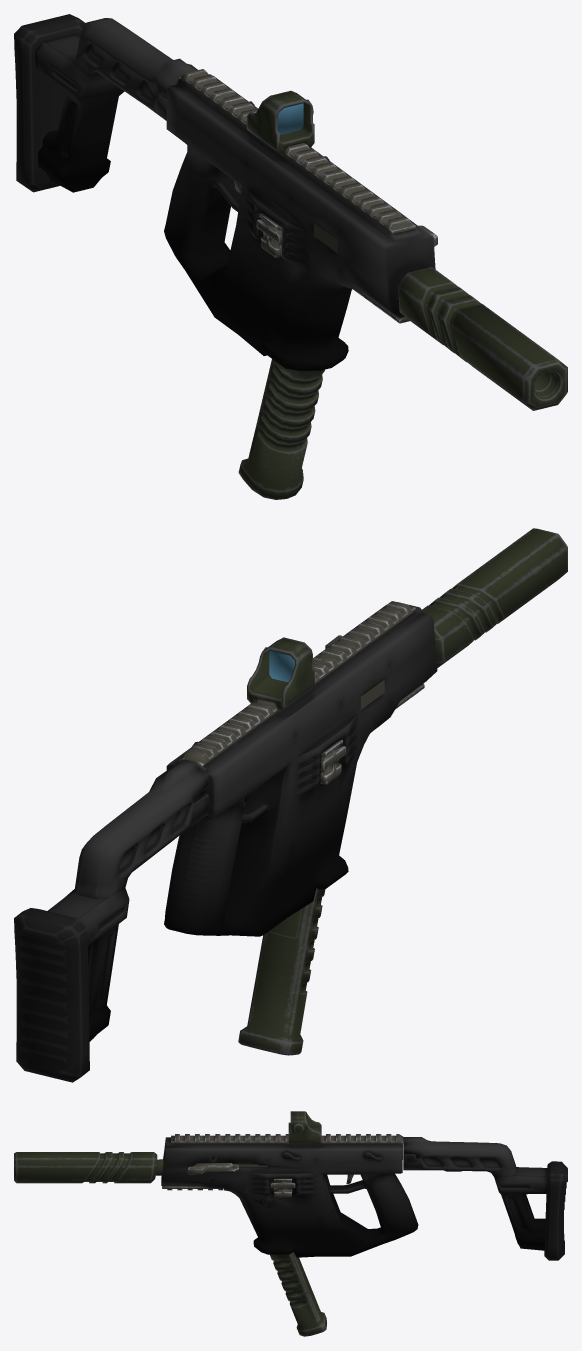
The picture shows the model from 3 angles, top to bottom: view 1: azimuth 30°, elevation 25°; view 2: azimuth 150°, elevation 25°; view 3: azimuth 270°, elevation 25°; orthographic projection. The views are drawn at different scales.
Parts seen in each view (by area): view 1: Body_low, Kundak_low, Prigusivac_low, Okvir_low, Kundak guma_low, Pikatini_low, Reddot_low, Bho_low, Reddotstaklo_low; view 2: Body_low, Kundak_low, Kundak guma_low, Prigusivac_low, Okvir_low, Pikatini_low, Reddot_low, Bho_low; view 3: Body_low, Kundak_low, Prigusivac_low, Okvir_low, Pikatini_low, Kundak guma_low, Reddot_low, Obarac_low, Bho_low, Button_low.
Boxes of the visible parts, x1,y1,x2,y2 form: Body_low: [164, 76, 435, 370]; Kundak_low: [35, 18, 197, 192]; Prigusivac_low: [398, 267, 567, 410]; Okvir_low: [238, 359, 324, 499]; Kundak guma_low: [14, 14, 85, 192]; Pikatini_low: [179, 69, 415, 323]; Reddot_low: [247, 90, 314, 155]; Bho_low: [256, 213, 282, 257]; Reddotstaklo_low: [278, 103, 303, 134]; Body_low: [164, 602, 437, 936]; Kundak_low: [48, 759, 208, 1041]; Kundak guma_low: [14, 908, 89, 1082]; Prigusivac_low: [422, 528, 567, 667]; Okvir_low: [238, 888, 325, 1055]; Pikatini_low: [179, 601, 424, 766]; Reddot_low: [247, 637, 314, 711]; Bho_low: [320, 740, 345, 784]; Body_low: [161, 1137, 418, 1257]; Kundak_low: [403, 1137, 547, 1250]; Prigusivac_low: [14, 1152, 163, 1183]; Okvir_low: [270, 1252, 326, 1336]; Pikatini_low: [162, 1134, 403, 1190]; Kundak guma_low: [544, 1161, 567, 1260]; Reddot_low: [288, 1111, 321, 1143]; Obarac_low: [187, 1163, 267, 1174]; Bho_low: [270, 1178, 295, 1197]; Button_low: [264, 1152, 415, 1205].
Size of the model in its own units: 0.1725 by 0.7908 by 1.81.
Materials: 1 (1 with a texture image).
